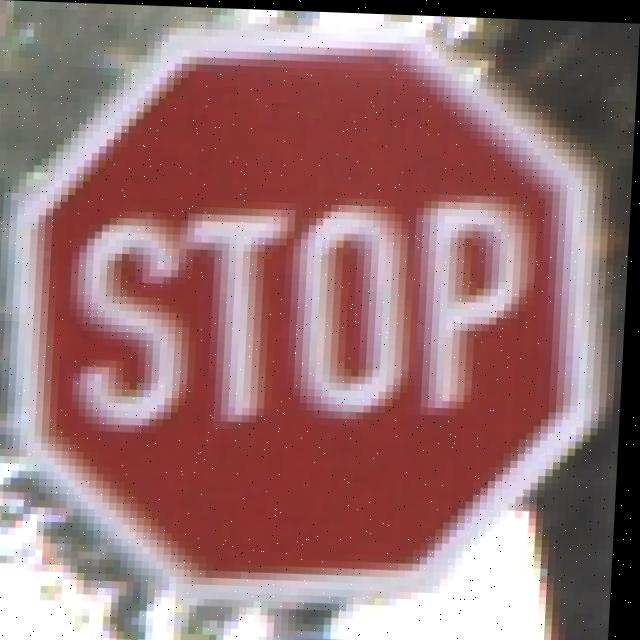stop: (0, 17, 598, 602)
